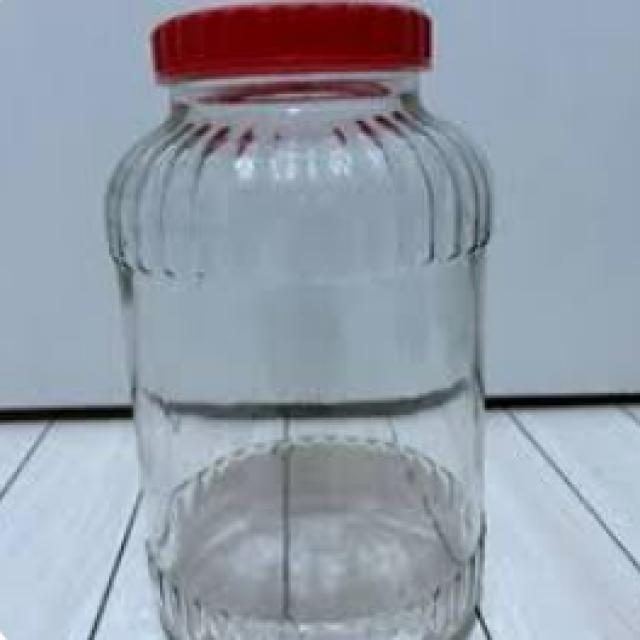ToplesKaca: (102, 0, 494, 638)
